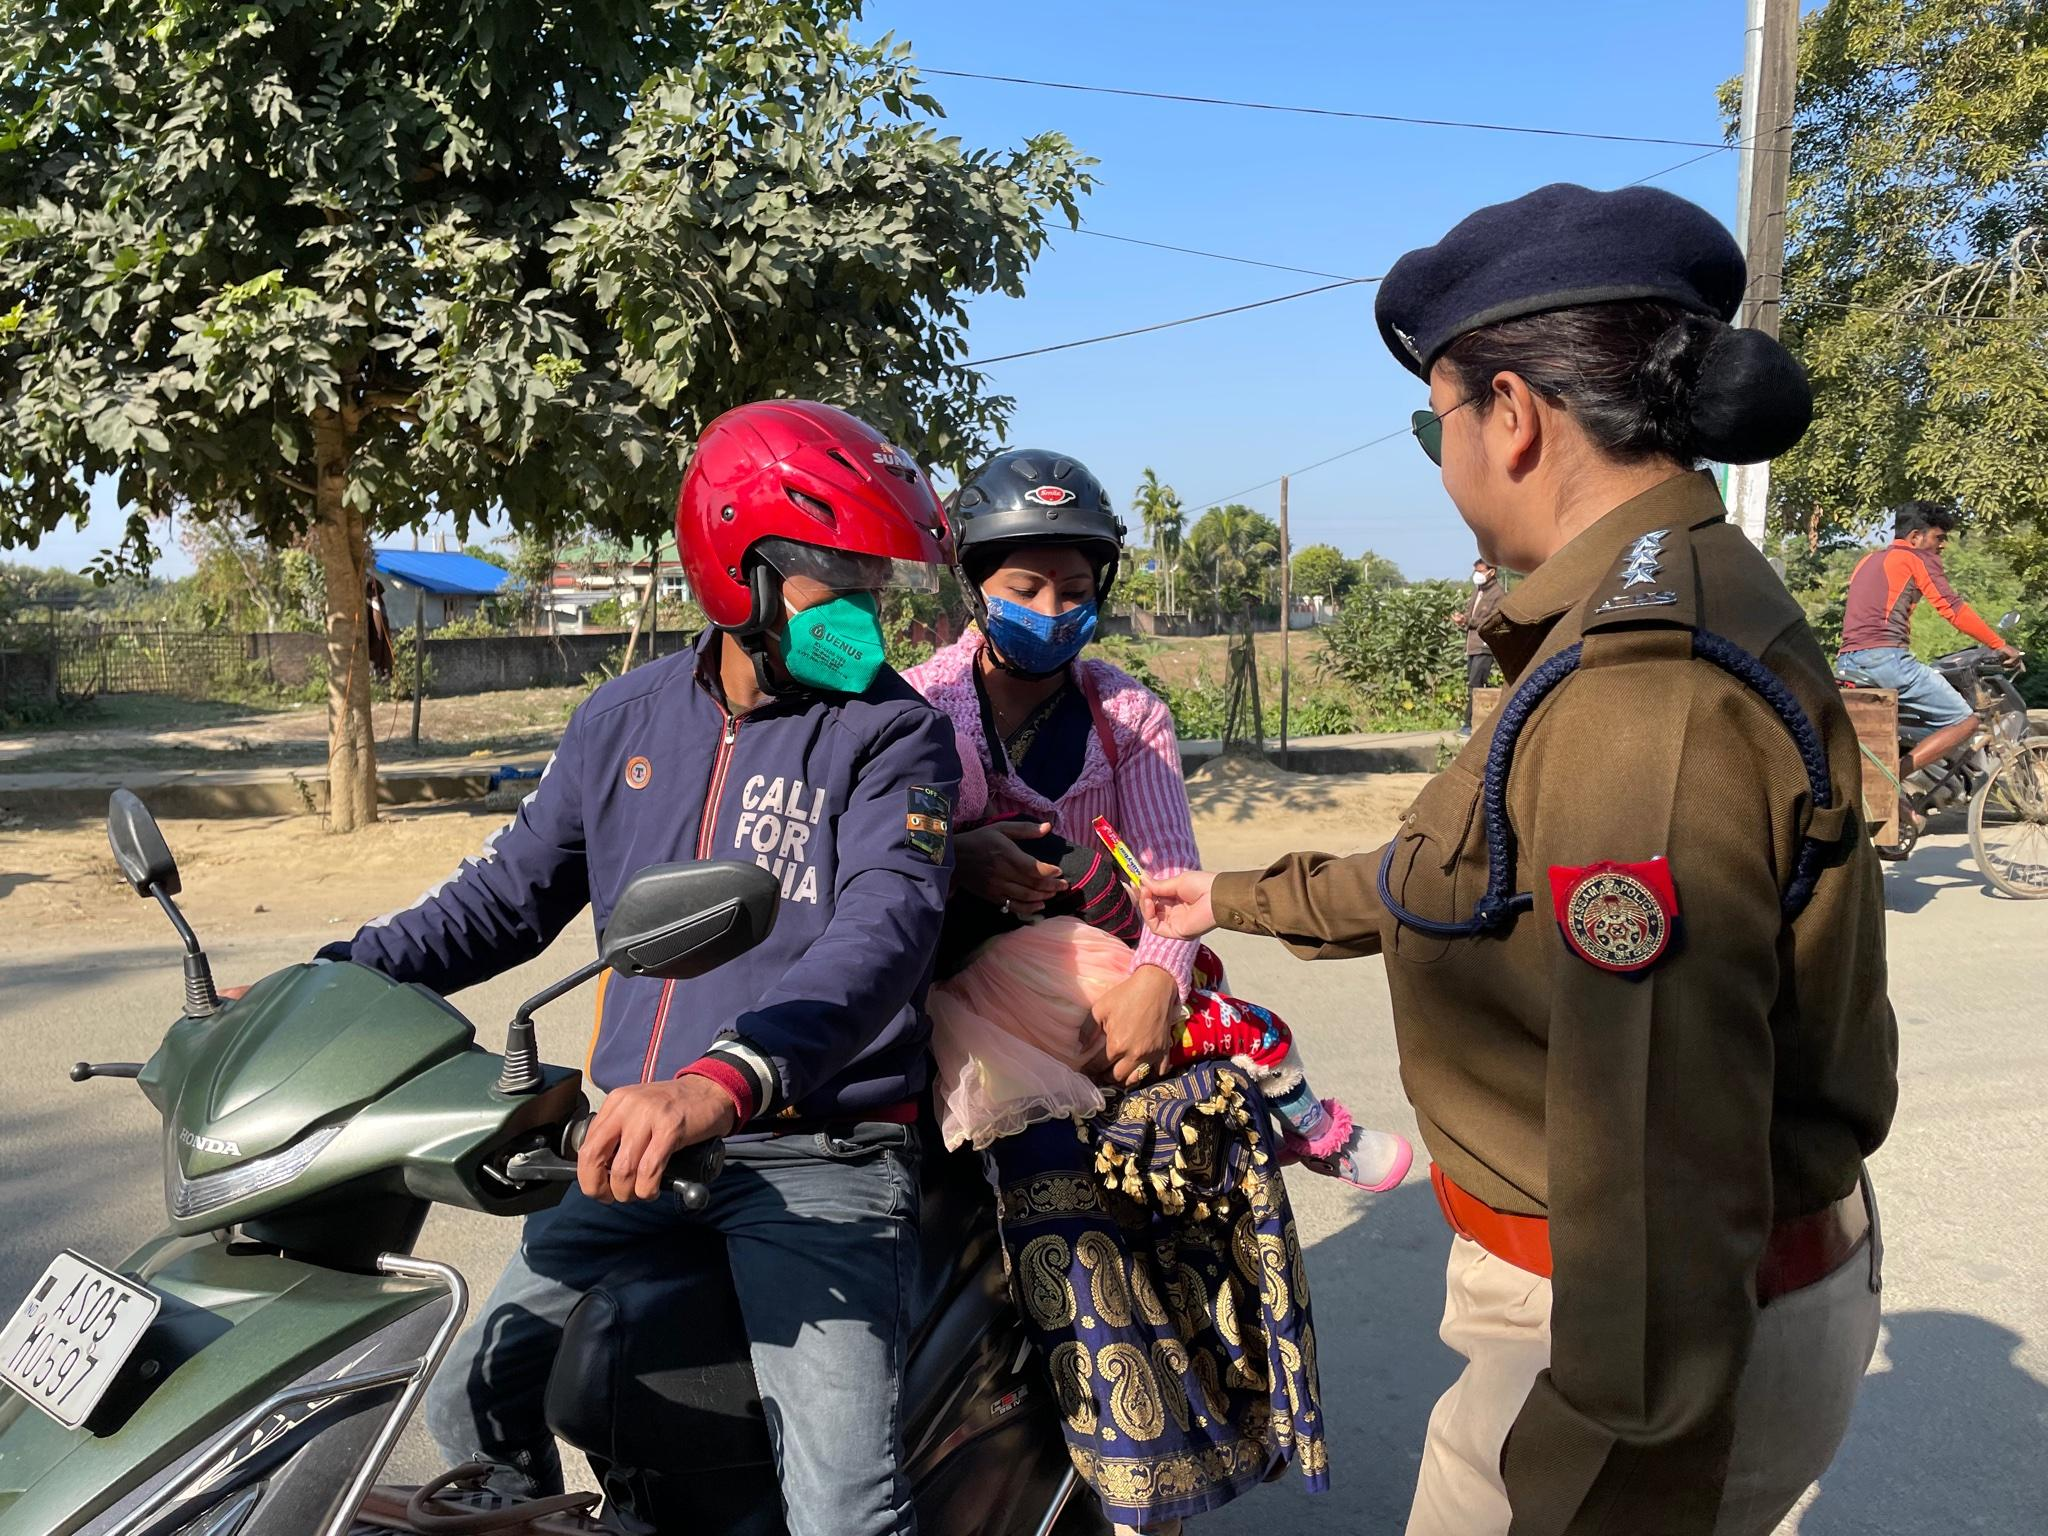Helmet: (674, 400, 956, 665), (956, 450, 1126, 671)
